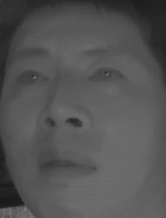eye: (87, 64, 128, 90), (14, 66, 52, 90)
mouth: (33, 143, 98, 185)
